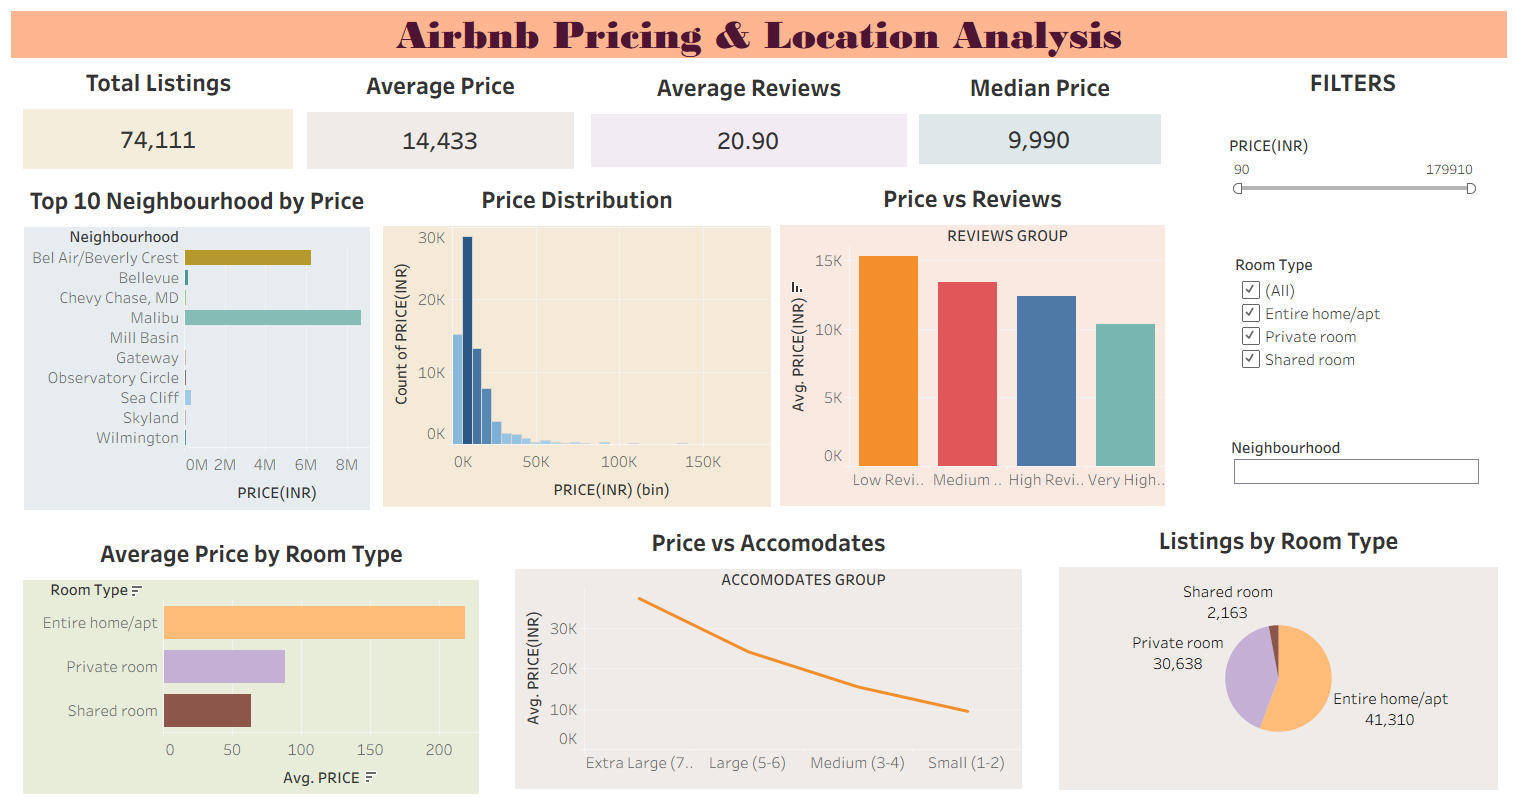

The page's visual inventory and layout, read from the dashboard file:
{"tool":"tableau","page":{"name":"Dashboard 1","canvas":[1000,1000],"units":"permille","ordinal":0},"visuals":[{"type":"title","box":[5.3,10,989.5,68.6]},{"type":"worksheet","title":"tot listings","mark":"Automatic","box":[15.5,78.4,178.1,134]},{"type":"worksheet","title":"filters","mark":"Automatic","box":[803.5,78.7,175.2,67.4]},{"type":"worksheet","title":"avg pice","mark":"Automatic","box":[202.9,82.2,176,130.2]},{"type":"worksheet","title":"avg reviews","mark":"Automatic","box":[389.2,84.7,208.1,125.2]},{"type":"worksheet","title":"med price","mark":"Automatic","box":[605.6,84.7,159.4,121.4]},{"type":"filter","title":"filters","param":"[federated.1btdqs01irc7ly1abgk9501hgo4u].[none:Calculation_1072299566489601:qk]","box":[809.1,169.8,165.2,82.4]},{"type":"worksheet","title":"scatter","mark":"Automatic","rows":["Calculation_1072299566489601"],"cols":["Calculation_0914520752721921"],"box":[513.8,223.5,253.4,409.5]},{"type":"worksheet","title":"histo","mark":"Automatic","rows":["Calculation_1072299566489601"],"cols":["PRICE(INR) (bin)"],"box":[252.8,224.7,255.3,409.5]},{"type":"worksheet","title":"top10","mark":"Automatic","rows":["neighbourhood"],"cols":["Calculation_1072299566489601"],"box":[16.3,226,227.8,413.2]},{"type":"filter","title":"filters","param":"[federated.1btdqs01irc7ly1abgk9501hgo4u].[none:room_type:nk]","box":[812.9,318.4,165.2,152.3]},{"type":"filter","title":"filters","param":"[federated.1btdqs01irc7ly1abgk9501hgo4u].[none:neighbourhood:nk]","box":[810.4,545.6,165.2,76.2]},{"type":"worksheet","title":"pie","mark":"Pie","box":[697.1,649.2,289.1,337.1]},{"type":"worksheet","title":"line","mark":"Line","rows":["Calculation_1072299566489601"],"cols":["Calculation_0914520743620608"],"box":[339.8,651.7,333.5,333.3]},{"type":"worksheet","title":"bar","mark":"Bar","rows":["room_type"],"cols":["Calculation_1072299560820736"],"box":[15.6,665.4,300.4,327.1]}]}

Visuals, with their boxes on the dashboard's canvas, which has no fixed pixel size, in thousandths of its width and height (x1, y1, x2, y2). These are canvas units, not pixel positions in the 1515x797 screenshot, which may show the page scaled, cropped or inside an application window:
title: <box>5,10,995,79</box>
"tot listings" worksheet: <box>16,78,194,212</box>
"filters" worksheet: <box>804,79,979,146</box>
"avg pice" worksheet: <box>203,82,379,212</box>
"avg reviews" worksheet: <box>389,85,597,210</box>
"med price" worksheet: <box>606,85,765,206</box>
"filters" filter: <box>809,170,974,252</box>
"scatter" worksheet: <box>514,224,767,633</box>
"histo" worksheet: <box>253,225,508,634</box>
"top10" worksheet: <box>16,226,244,639</box>
"filters" filter: <box>813,318,978,471</box>
"filters" filter: <box>810,546,976,622</box>
"pie" worksheet (Pie marks): <box>697,649,986,986</box>
"line" worksheet (Line marks): <box>340,652,673,985</box>
"bar" worksheet (Bar marks): <box>16,665,316,992</box>
